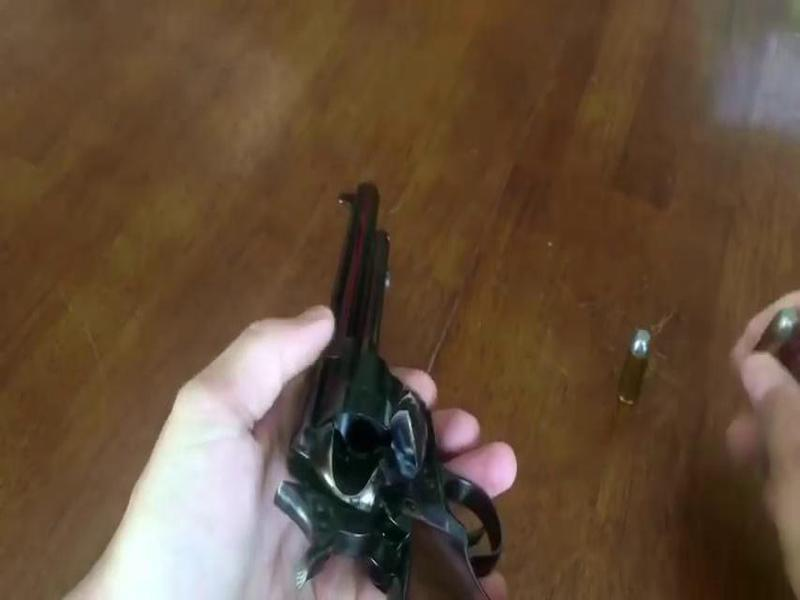Revolver: (277, 188, 491, 600)
